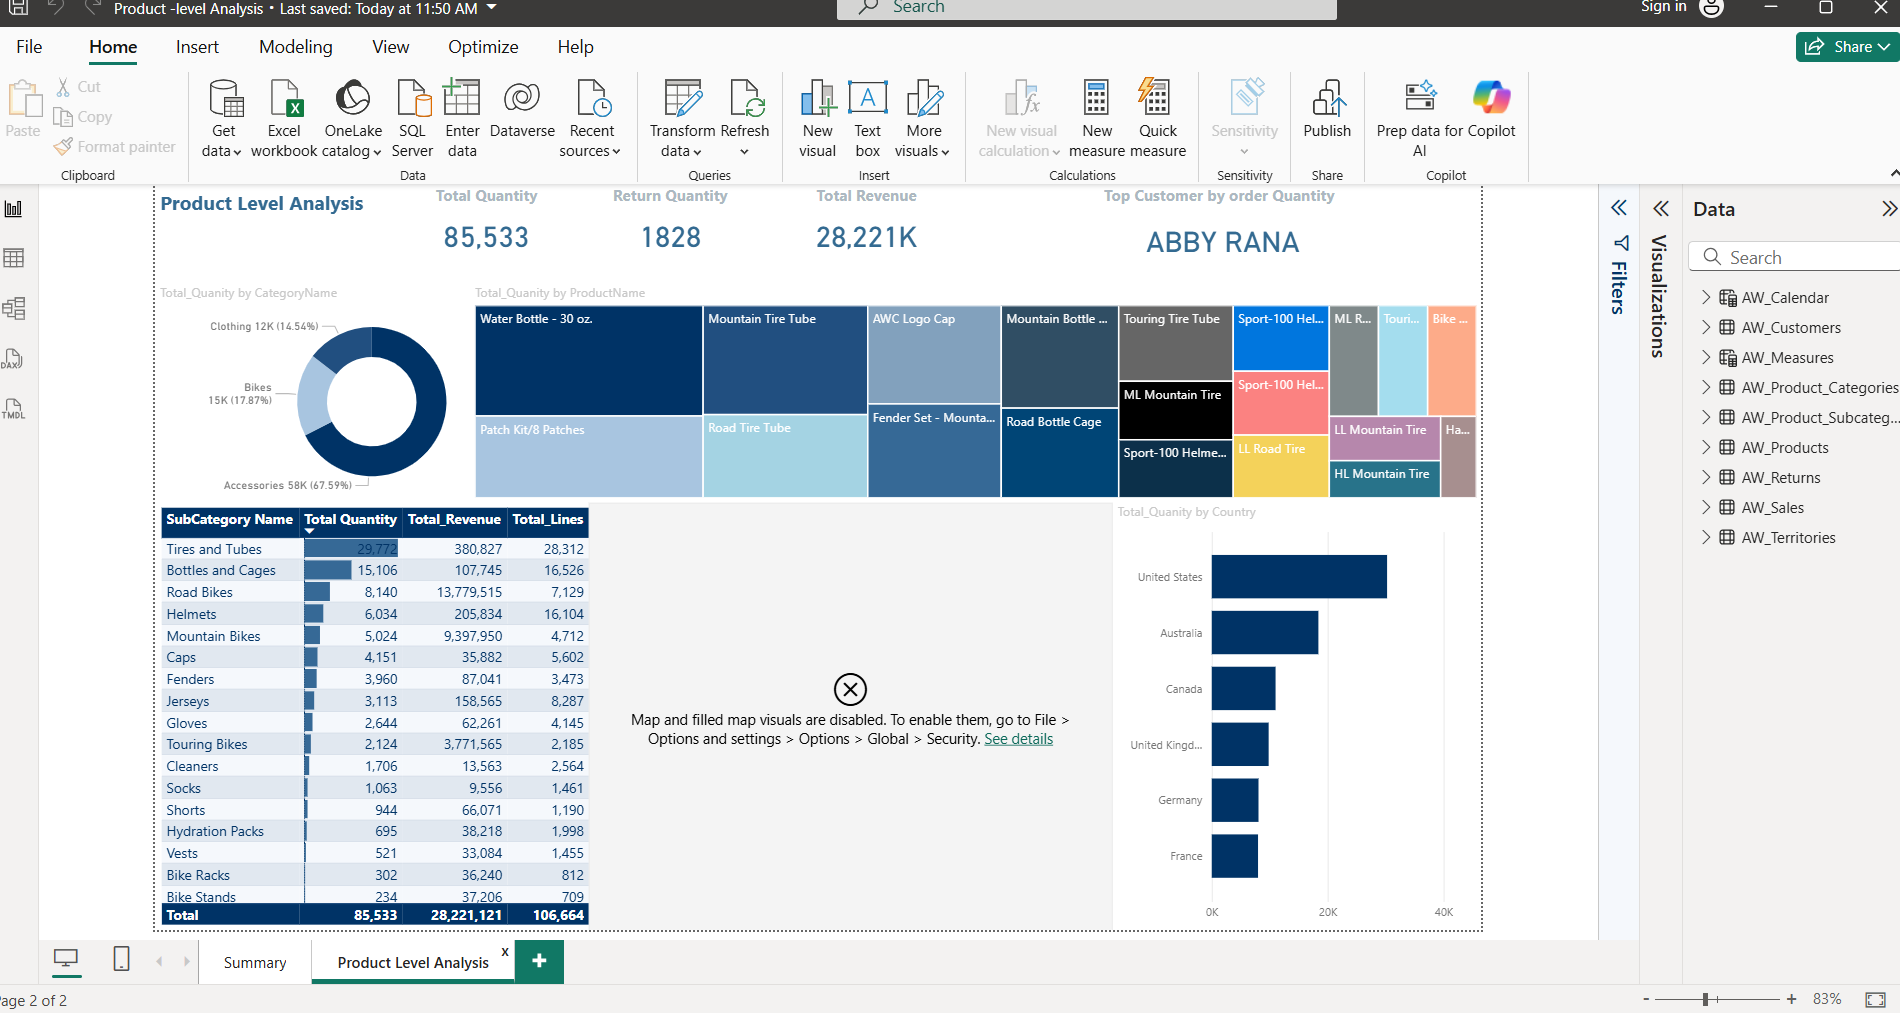

The dashboard page shown, as its layout file describes it:
{"tool":"powerbi","page":{"name":"Product Level Analysis","canvas":[1280,720],"ordinal":1},"visuals":[{"type":"textbox","box":[0,0,219.9,41.9],"z":0},{"type":"donutChart","fields":{"Category":["AW_Product_Categories.CategoryName"],"Y":["AW_Measures.Total_Quanity"]},"box":[0,96.1,418.9,211.5],"z":1000},{"type":"card","title":"Total Quantity","fields":{"Values":["AW_Measures.Total_Quanity"]},"box":[231.6,0,176.9,79.1],"z":2000},{"type":"card","title":"Return Quantity","fields":{"Values":["AW_Measures.Return_Quantity"]},"box":[408.4,0,176.9,79.1],"z":3000},{"type":"card","title":"Total Revenue","fields":{"Values":["AW_Measures.Total_Revenue"]},"box":[598.1,0,176.9,79.1],"z":4000},{"type":"tableEx","fields":{"Values":["AW_Product_Subcategories.SubcategoryName","AW_Measures.Total_Quanity","AW_Measures.Total_Revenue","AW_Measures.Total_Lines"]},"box":[0,307.6,436.7,412],"z":5000},{"type":"card","title":"Top Customer by order Quantity","fields":{"Values":["Min(AW_Customers.Full_Name)"]},"box":[774.6,0,505.4,89.3],"z":6000},{"type":"map","fields":{"Category":["AW_Territories.Continent"],"Size":["AW_Measures.Total_Quanity"]},"box":[418.9,307.6,505.4,412],"z":7000},{"type":"clusteredBarChart","fields":{"Category":["AW_Territories.Country"],"Y":["AW_Measures.Total_Quanity"]},"box":[924.3,307.6,333.7,412],"z":8000},{"type":"treemap","fields":{"Group":["AW_Products.ProductName"],"Values":["AW_Measures.Total_Quanity"]},"box":[303.5,96.1,976.5,211.5],"z":9000}]}

Visuals, with their boxes on the page's 1280x720 design canvas (x1, y1, x2, y2). These are canvas units, not pixel positions in the 1900x1013 screenshot, which may show the page scaled, cropped or inside an application window:
textbox: select_region(0, 0, 220, 42)
donutChart - AW_Product_Categories.CategoryName x AW_Measures.Total_Quanity: select_region(0, 96, 419, 308)
"Total Quantity" card: select_region(232, 0, 408, 79)
"Return Quantity" card: select_region(408, 0, 585, 79)
"Total Revenue" card: select_region(598, 0, 775, 79)
tableEx - AW_Product_Subcategories.SubcategoryName x AW_Measures.Total_Quanity: select_region(0, 308, 437, 720)
"Top Customer by order Quantity" card: select_region(775, 0, 1280, 89)
map - AW_Territories.Continent x AW_Measures.Total_Quanity: select_region(419, 308, 924, 720)
clusteredBarChart - AW_Territories.Country x AW_Measures.Total_Quanity: select_region(924, 308, 1258, 720)
treemap - AW_Products.ProductName x AW_Measures.Total_Quanity: select_region(304, 96, 1280, 308)
